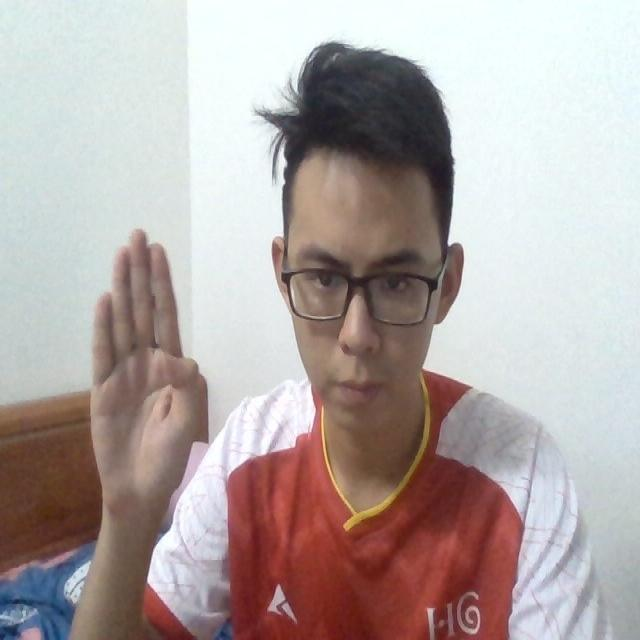B: (84, 223, 209, 502)
